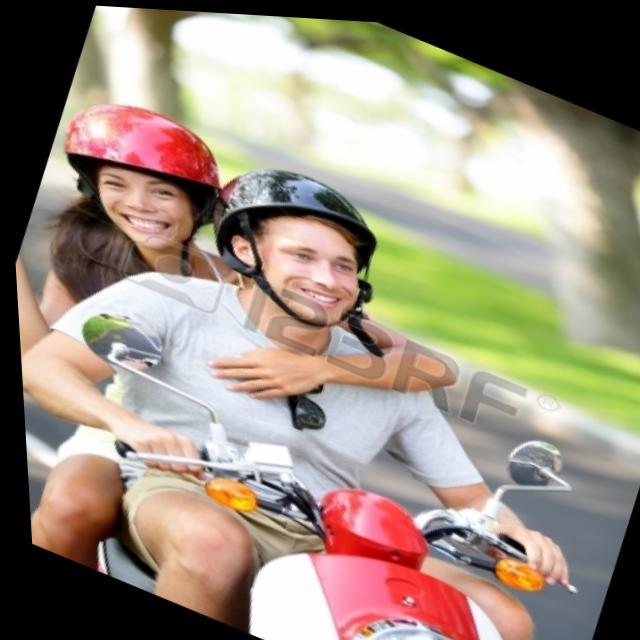Helmet: (60, 100, 232, 266), (212, 167, 379, 331)
